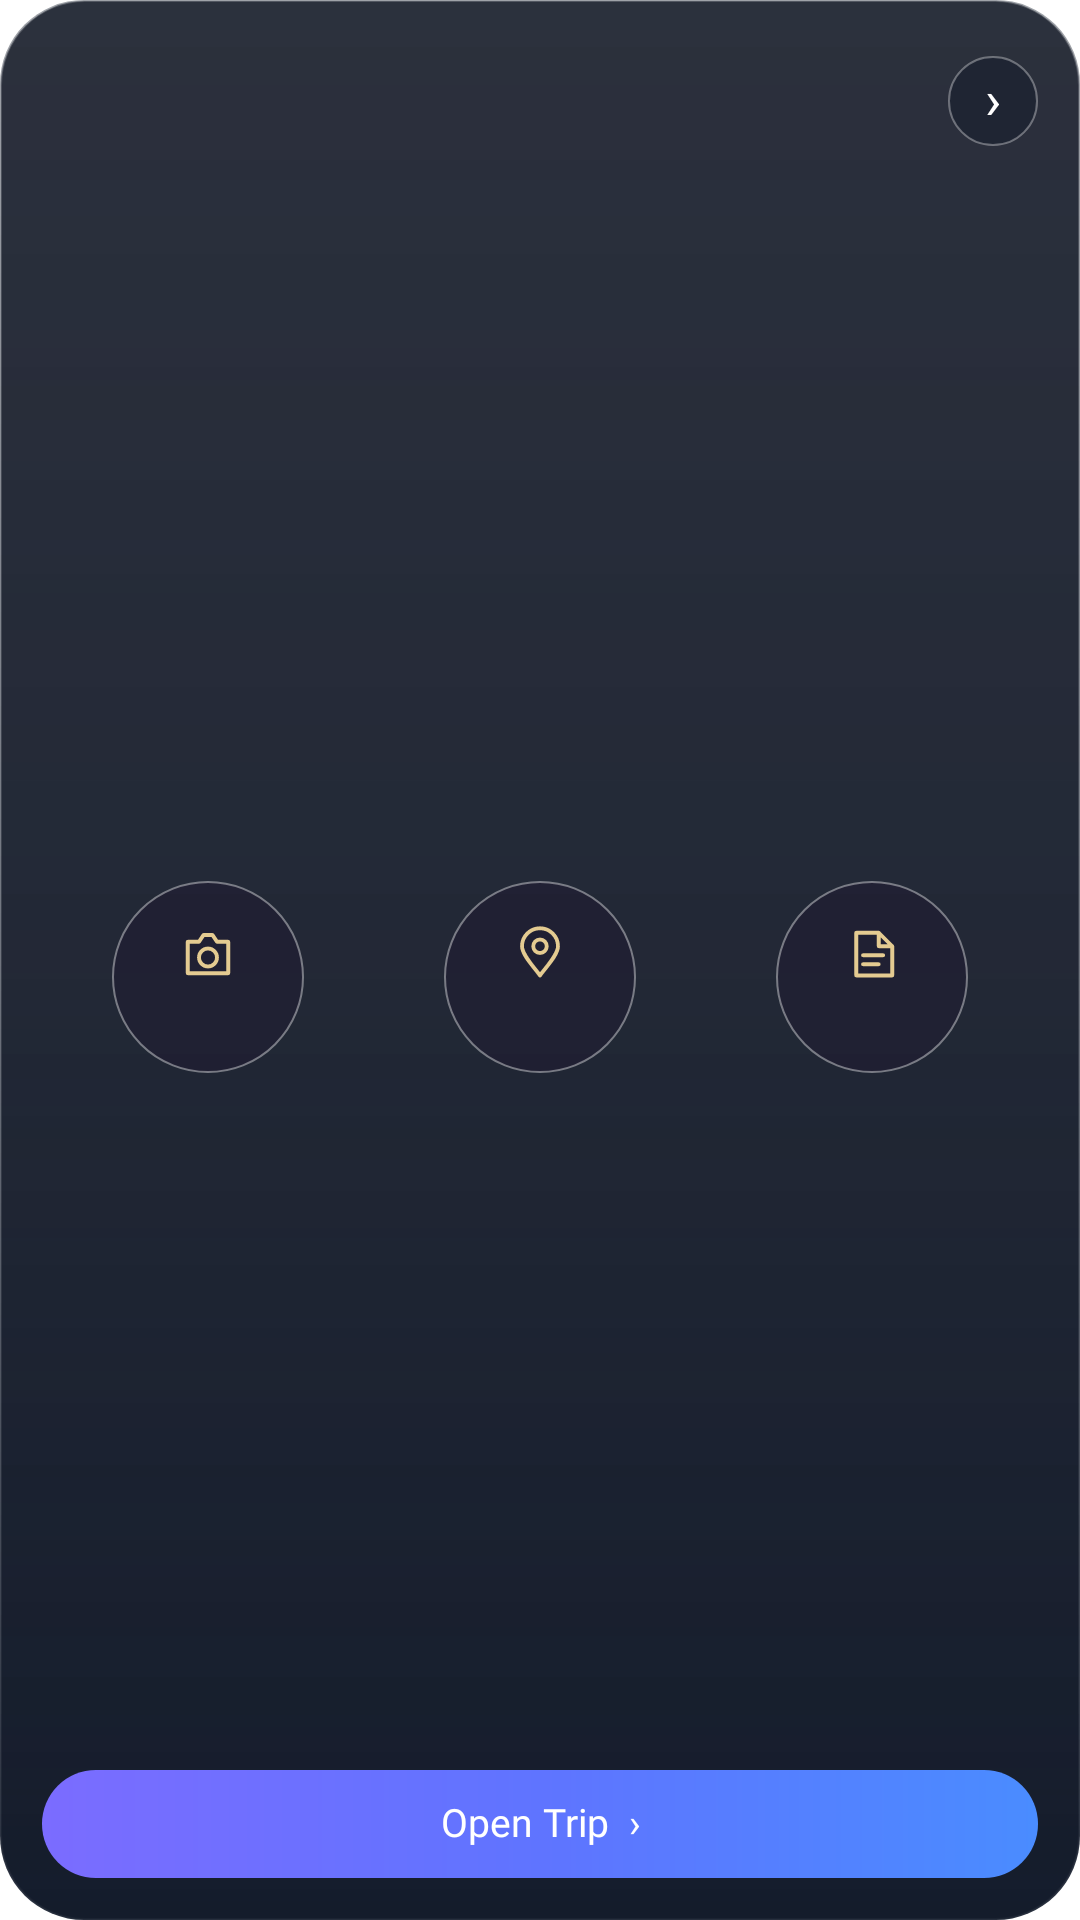

Where to tap for icons on this 1080*1920 app screen, as (x=x, y=y):
widget trip gold camera: (x=208, y=954)
widget trip gold docs: (x=874, y=954)
widget trip gold place: (x=540, y=952)
